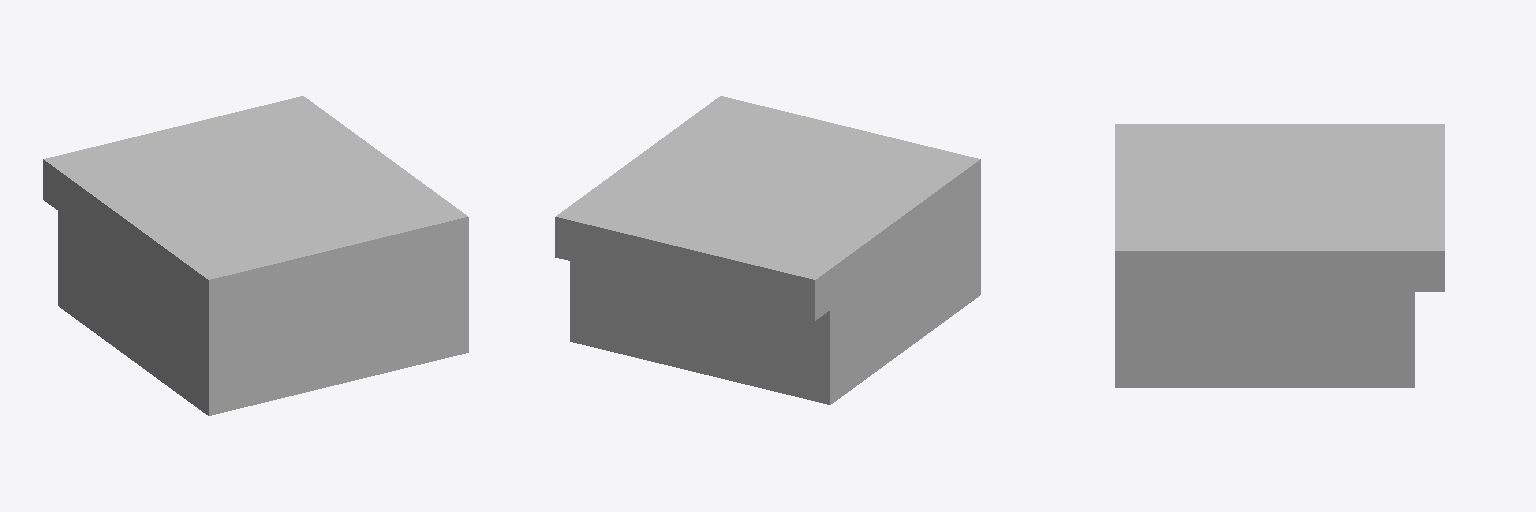
Rendered from dock-side.obj.
3 views of the same model, side by side, from view 1: azimuth 30°, elevation 25°; view 2: azimuth 150°, elevation 25°; view 3: azimuth 270°, elevation 25° (orthographic).
Parts seen in each view (by area): view 1: dock-side; view 2: dock-side; view 3: dock-side.
Part boxes in pixels (left/top/right/bottom): dock-side: left=43, top=96, right=468, bottom=415; dock-side: left=555, top=96, right=980, bottom=404; dock-side: left=1115, top=124, right=1444, bottom=387.
Size of the model in its own units: 1 by 0.5 by 1.1.